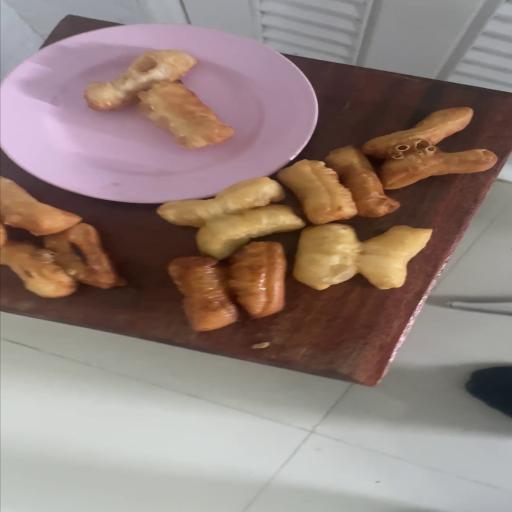street_burnt_defect: (167, 244, 285, 330), (2, 225, 125, 297)
